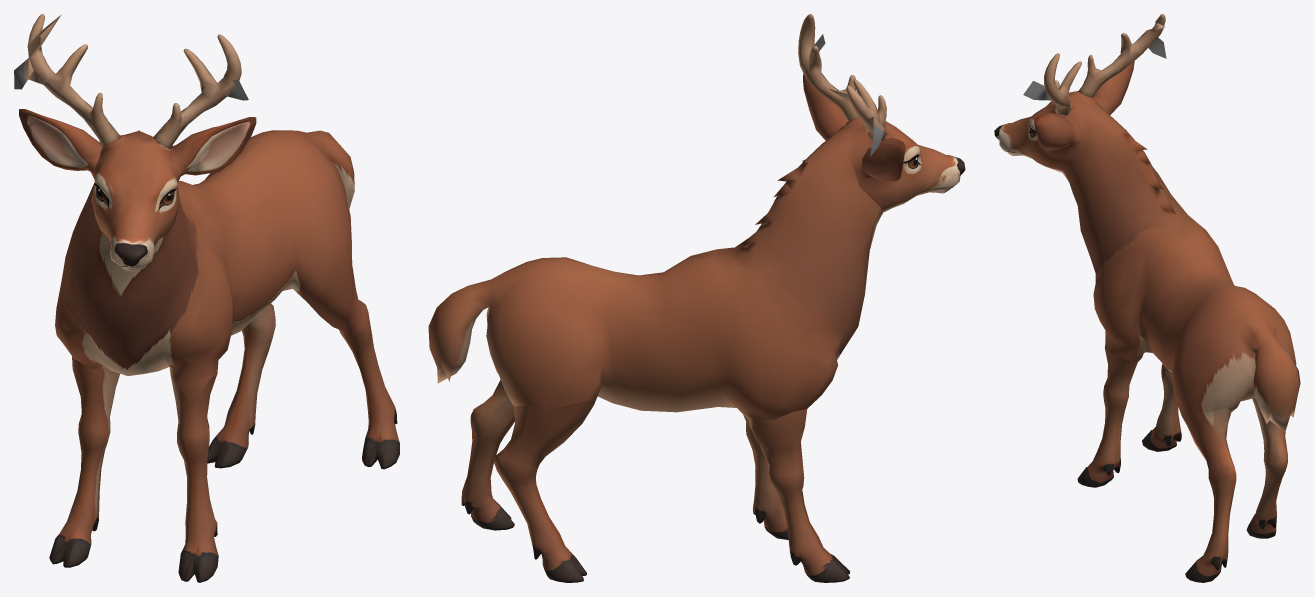
The model's file is deer.glb.
The picture shows the model from 3 angles, left to right: view 1: azimuth 30°, elevation 25°; view 2: azimuth 150°, elevation 25°; view 3: azimuth 270°, elevation 25°; orthographic projection. The views are drawn at different scales.
Visible parts, largest first — view 1: tripo_part_0, tripo_part_2, tripo_part_4, tripo_part_6, tripo_part_9, tripo_part_1, tripo_part_5, tripo_part_7, tripo_part_3, tripo_part_8; view 2: tripo_part_0, tripo_part_1, tripo_part_4, tripo_part_2, tripo_part_6, tripo_part_9, tripo_part_3, tripo_part_5, tripo_part_7, tripo_part_8; view 3: tripo_part_0, tripo_part_6, tripo_part_2, tripo_part_9, tripo_part_1, tripo_part_5, tripo_part_4, tripo_part_3, tripo_part_8, tripo_part_7.
Part boxes in pixels (x1,y1,x2,y2): tripo_part_0: (55,130,354,405); tripo_part_2: (91,134,184,271); tripo_part_4: (49,356,119,567); tripo_part_6: (307,265,399,469); tripo_part_9: (170,373,218,582); tripo_part_1: (207,303,275,468); tripo_part_5: (14,14,120,149); tripo_part_7: (19,109,102,172); tripo_part_3: (153,34,248,148); tripo_part_8: (171,117,256,175); tripo_part_0: (428,129,882,420); tripo_part_1: (494,401,593,582); tripo_part_4: (741,409,849,582); tripo_part_2: (838,117,965,212); tripo_part_6: (461,380,514,530); tripo_part_9: (743,414,788,539); tripo_part_3: (798,14,858,121); tripo_part_5: (828,79,887,156); tripo_part_7: (862,137,905,182); tripo_part_8: (803,73,847,140); tripo_part_0: (1062,105,1300,431); tripo_part_6: (1174,395,1236,582); tripo_part_2: (994,91,1105,179); tripo_part_9: (1077,348,1137,487); tripo_part_1: (1246,398,1287,538); tripo_part_5: (1078,14,1166,97); tripo_part_4: (1142,363,1181,451); tripo_part_3: (1023,53,1081,115); tripo_part_8: (1034,112,1081,150); tripo_part_7: (1093,61,1134,115).
Size of the model in its own units: 0.814 by 0.9995 by 0.646.
11 materials, 11 textured.
